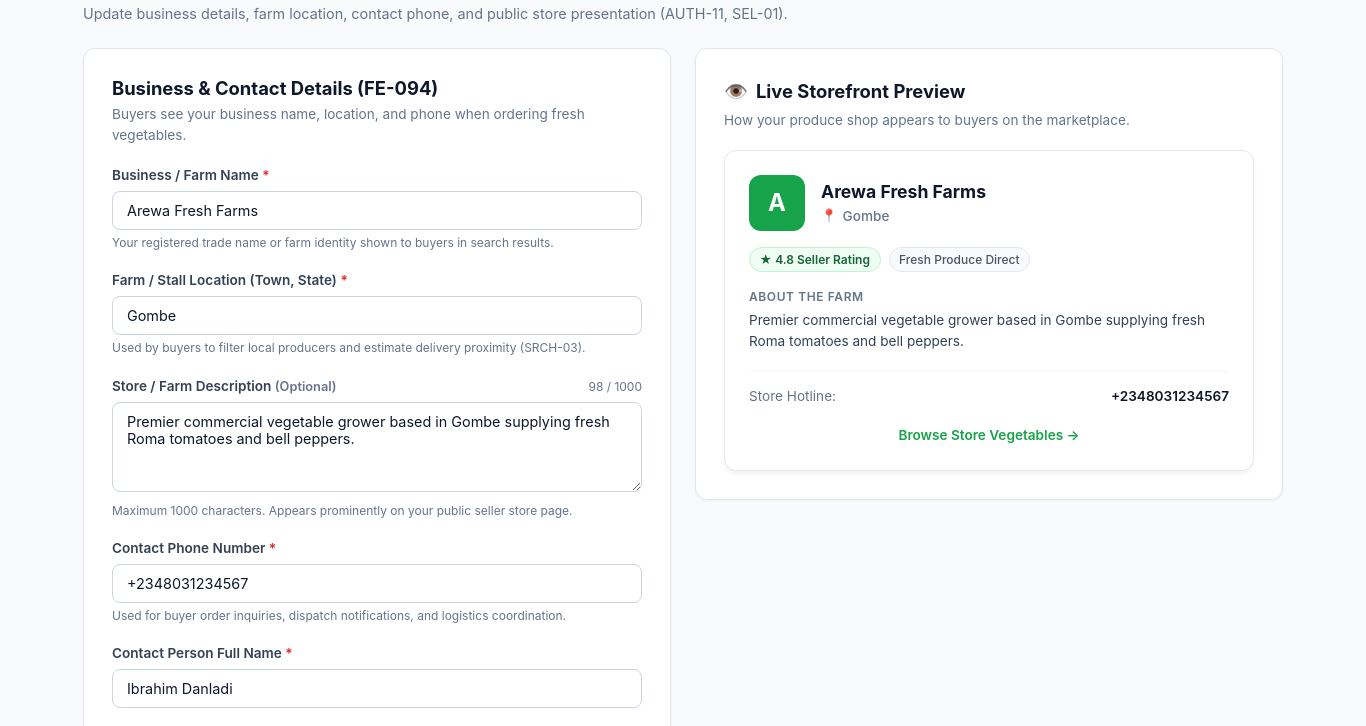
Test case: FE-094 / AUTH-11: Seller Profile Edit › 4. Discard Changes (Reset Button) › reverts modified fields back to last saved profile values when Discard Changes is clicked
Note: Change business name
Replace the text in the field with test id "profile-business-name-input" with "Unsaved Temporary Business Name" at (377, 210), box [112,191,642,230]
(page scrolled)
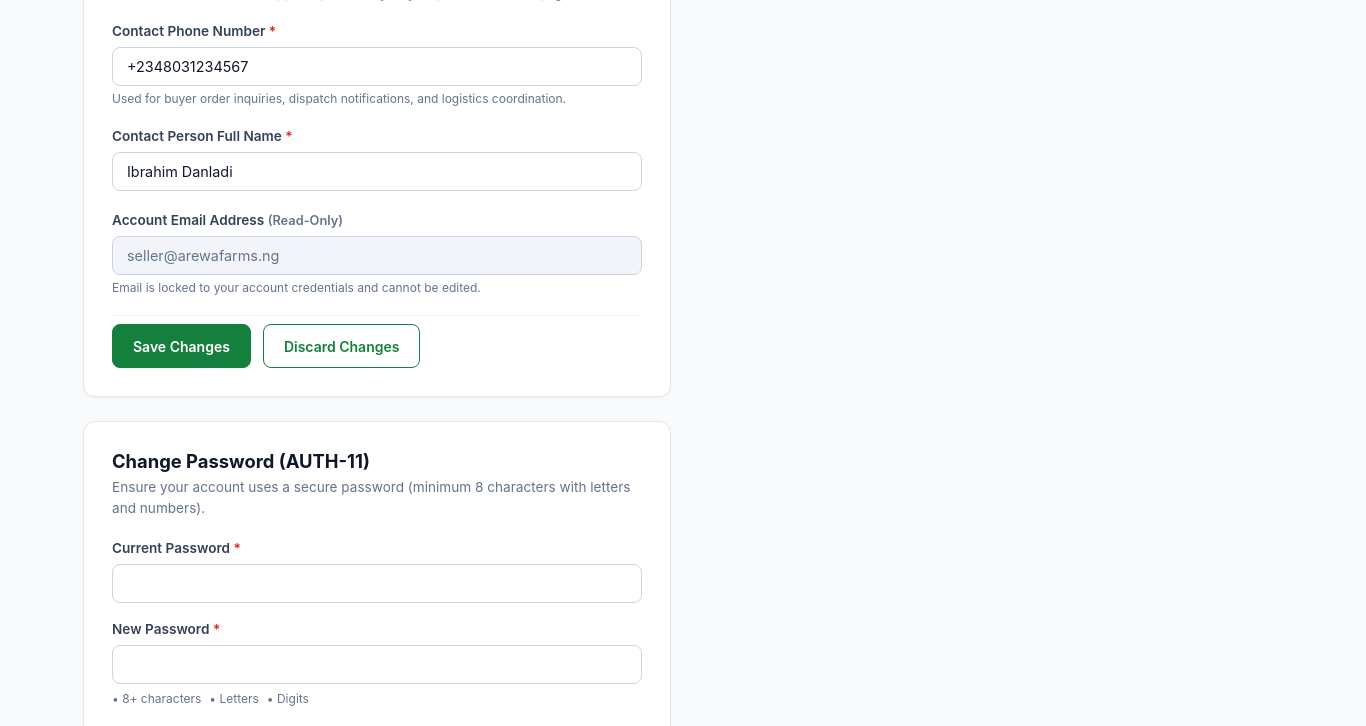
Note: Click discard
Click the button with test id "profile-reset-btn" at (342, 346), box [263,324,420,368]
(page scrolled)
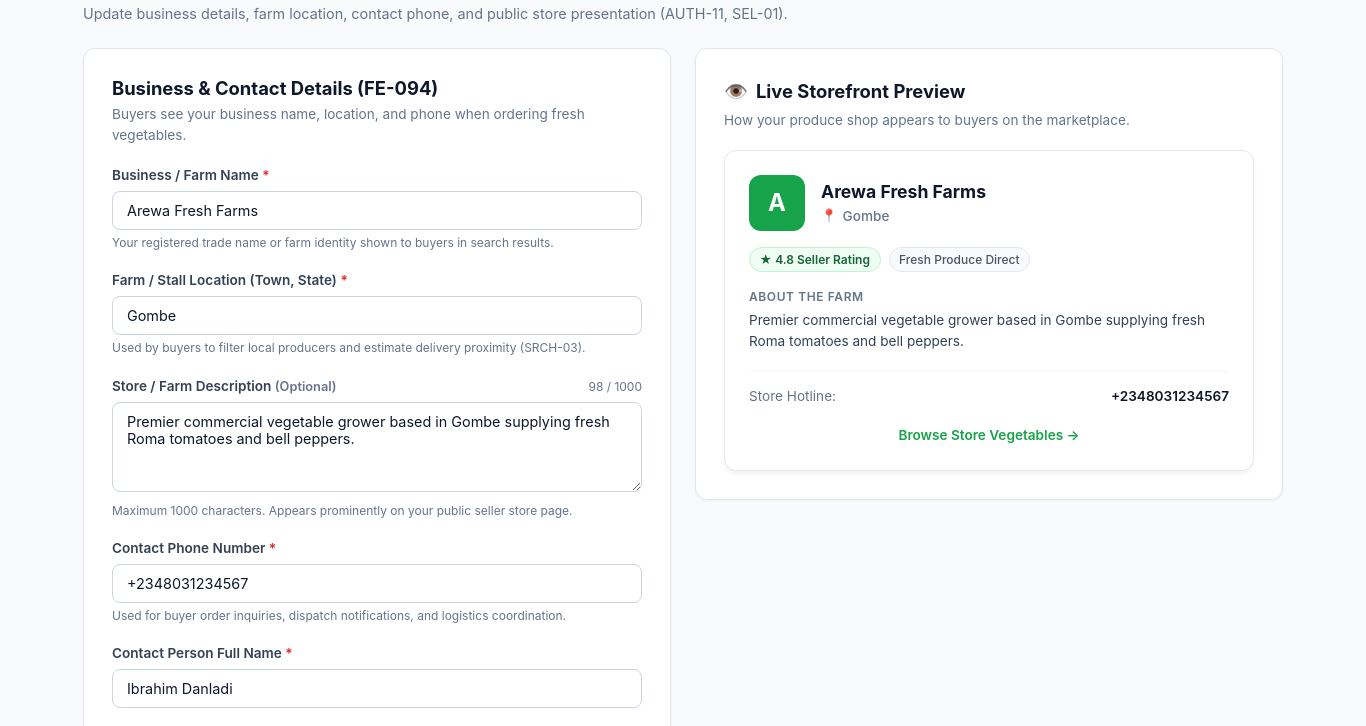
Check: the field with test id "profile-business-name-input" holds "Arewa Fresh Farms", box [112,191,642,230]
